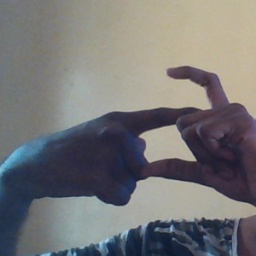E: (98, 63, 235, 198)
